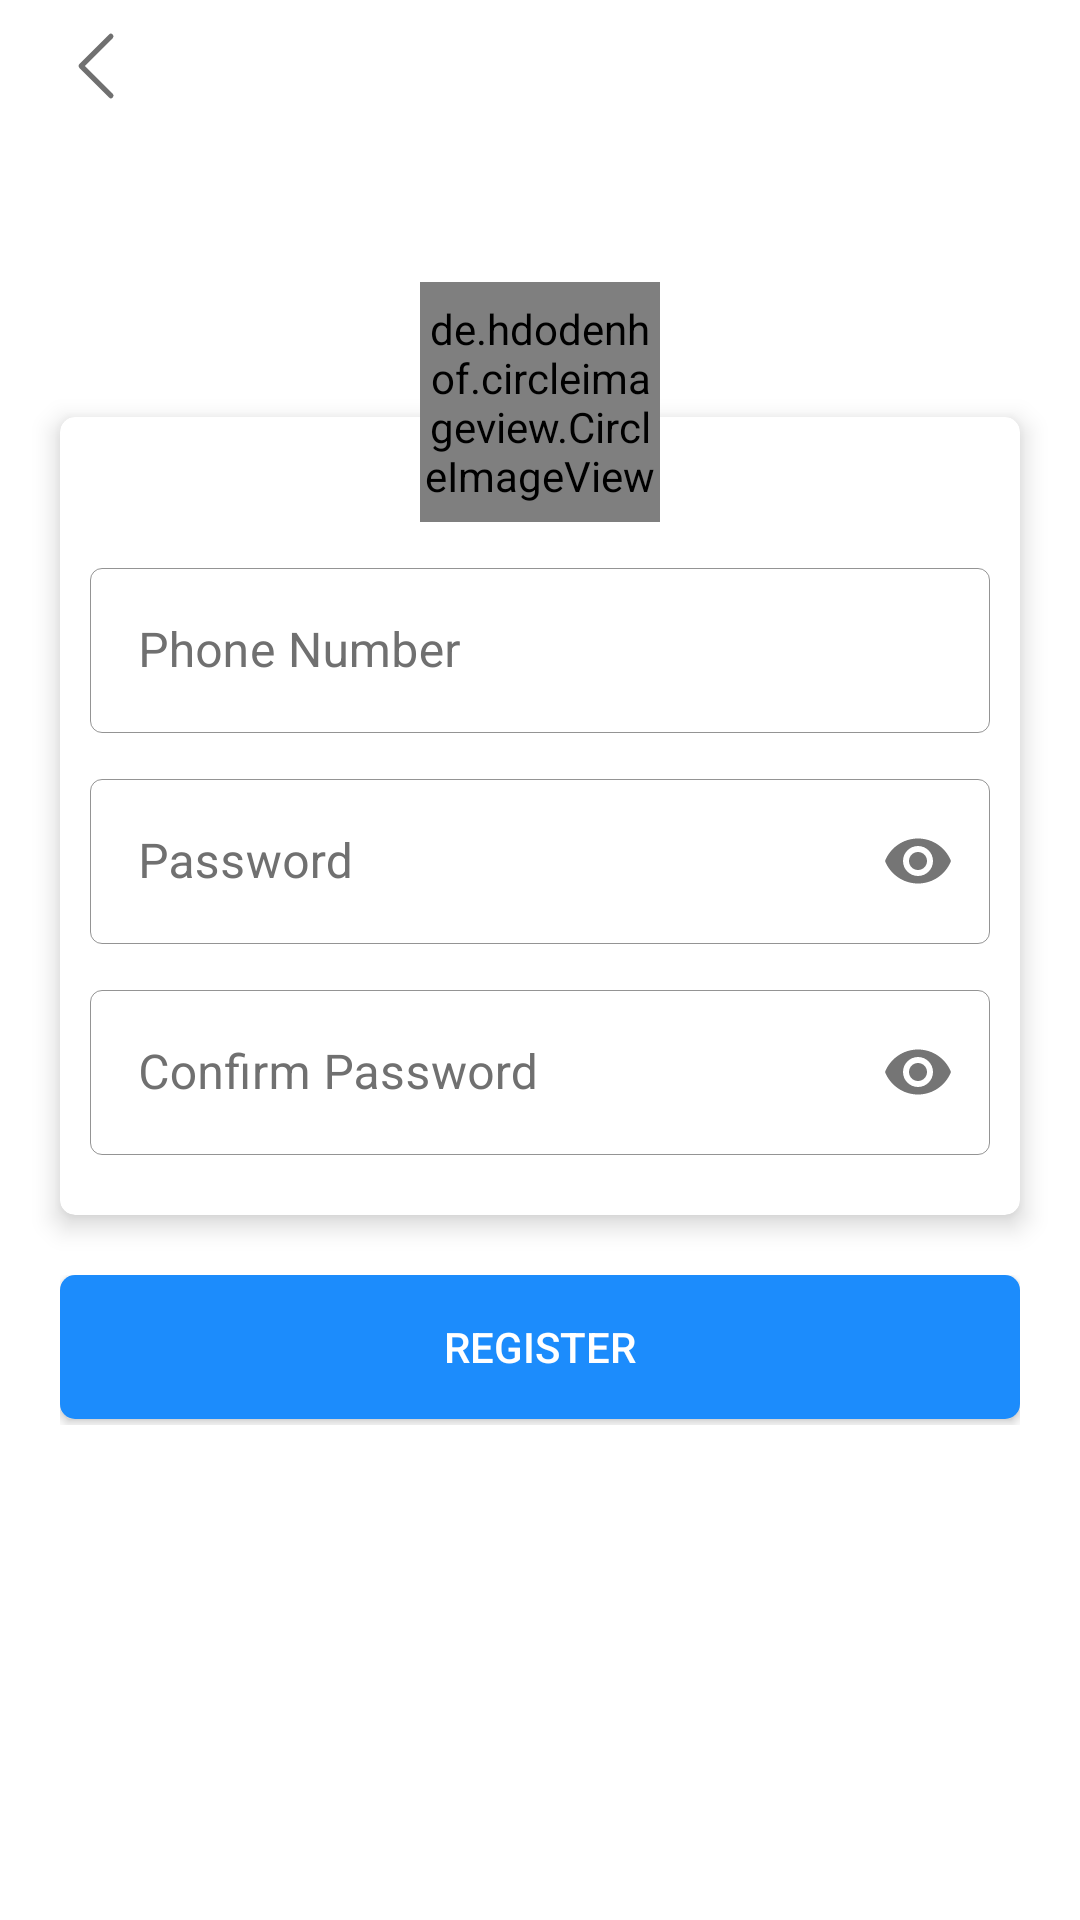

Point at icon controls on the screen. Image size 1080x1920, points as point (x, y).
back: point (96, 66)
